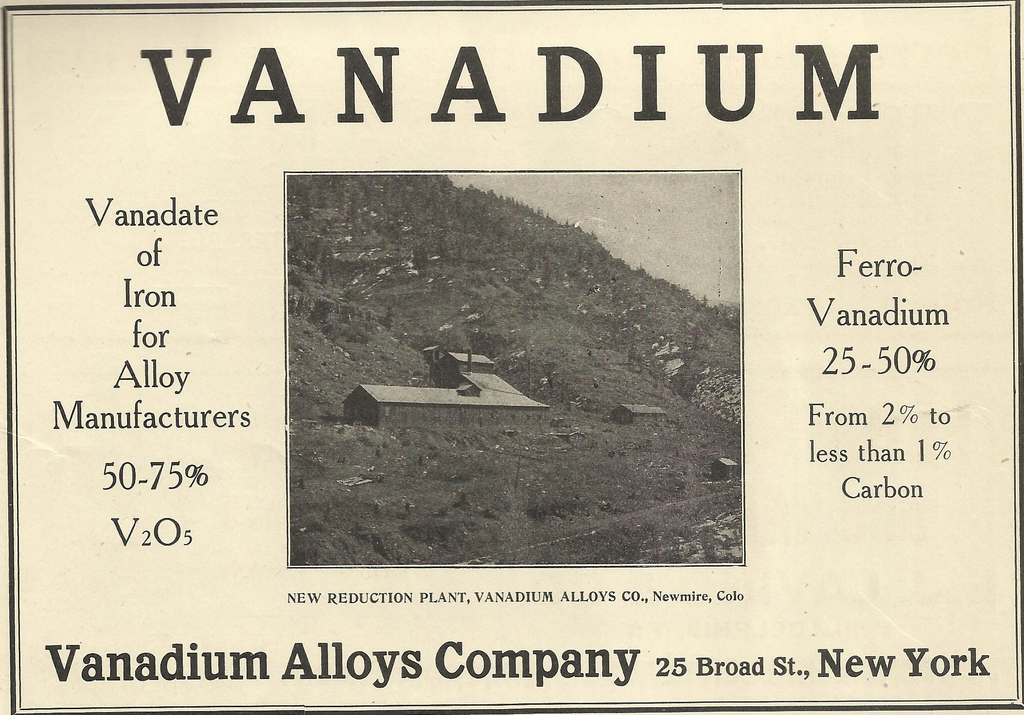Tree: (289, 163, 741, 562)
